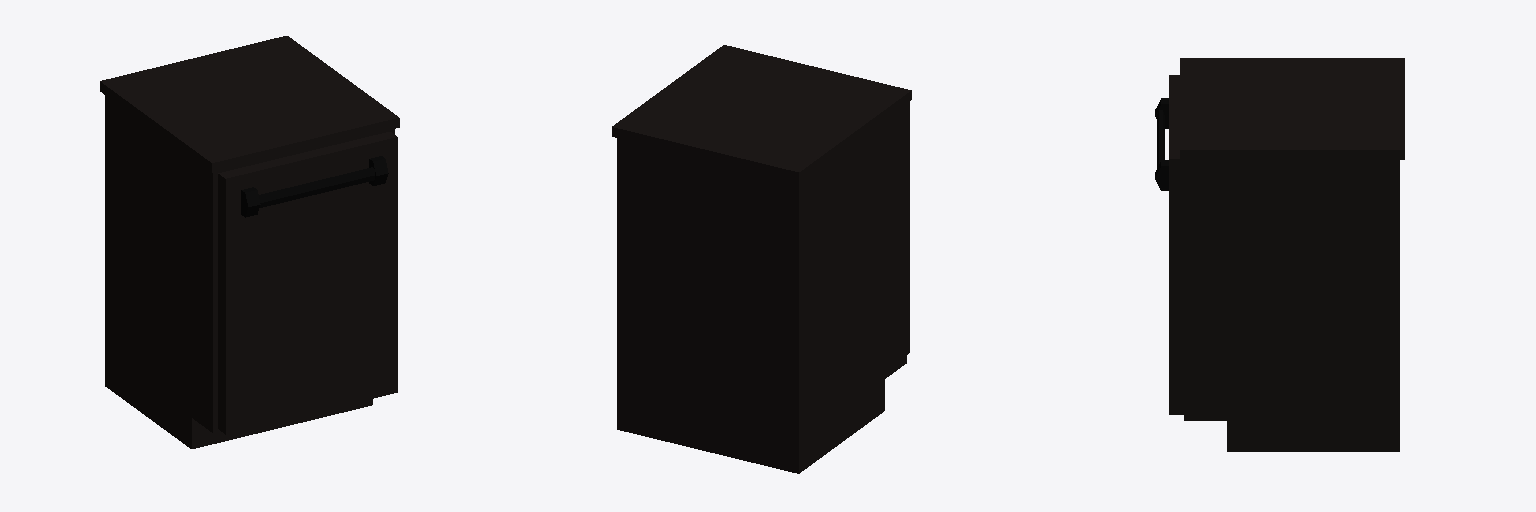
File: DishWasher1.obj
3 views of the same model, side by side, from view 1: azimuth 30°, elevation 25°; view 2: azimuth 150°, elevation 25°; view 3: azimuth 270°, elevation 25° (orthographic).
Parts seen in each view (by area): view 1: DishWasher1_Cube.002, Door1DishWasher1_Cube.018; view 2: DishWasher1_Cube.002, Door1DishWasher1_Cube.018; view 3: DishWasher1_Cube.002, Door1DishWasher1_Cube.018.
Part boxes in pixels (x1,y1,x2,y2): DishWasher1_Cube.002: (100, 36, 399, 448); Door1DishWasher1_Cube.018: (218, 132, 397, 434); DishWasher1_Cube.002: (612, 45, 911, 473); Door1DishWasher1_Cube.018: (907, 102, 909, 354); DishWasher1_Cube.002: (1180, 58, 1404, 451); Door1DishWasher1_Cube.018: (1155, 75, 1183, 414).
Size of the model in its own units: 0.5863 by 0.9081 by 0.6767.